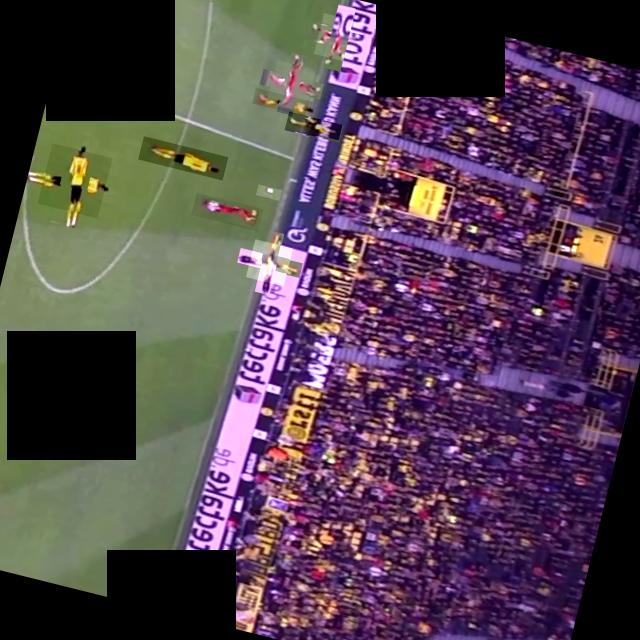ball: (254, 184, 280, 200)
soccer-player: (36, 142, 111, 218), (136, 136, 226, 180), (190, 192, 262, 231), (312, 12, 363, 64), (244, 238, 292, 286), (266, 60, 314, 108), (283, 111, 342, 142), (250, 87, 310, 117)
